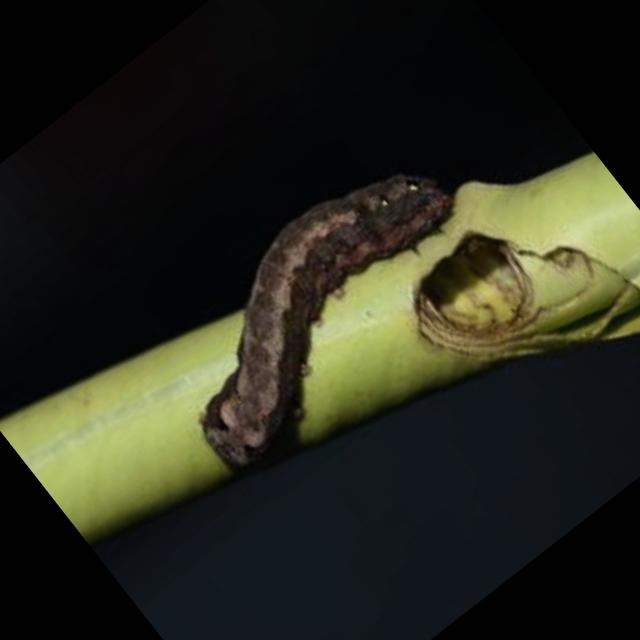Tobacco cutworm: (80, 59, 584, 538)
